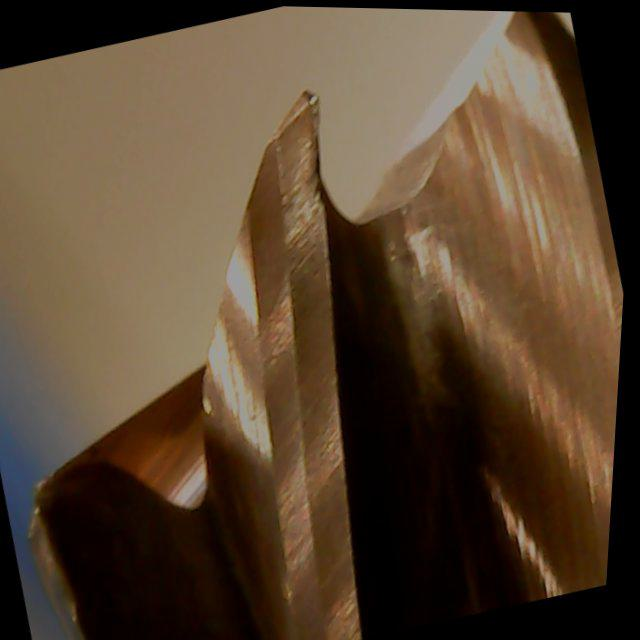Tool-wear-class-1: (168, 71, 417, 433)
